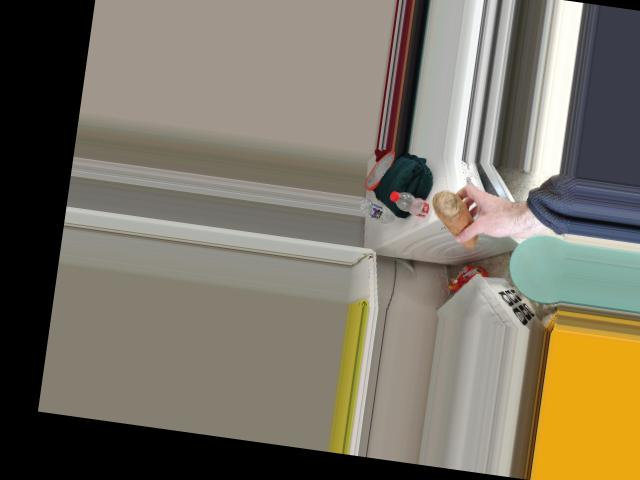sweet_potato: (427, 184, 484, 253)
